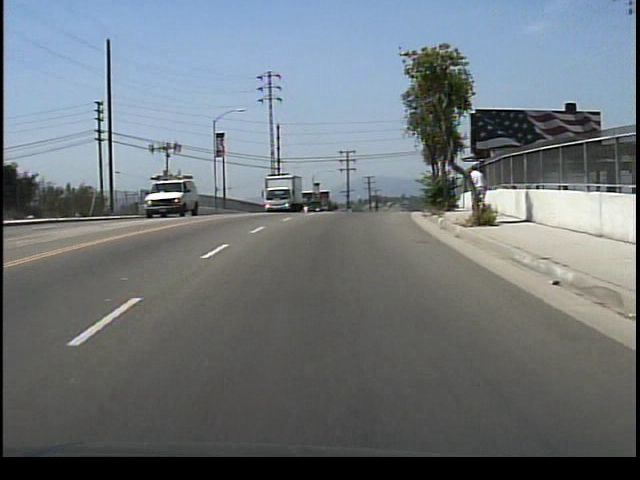person: (466, 162, 491, 223)
